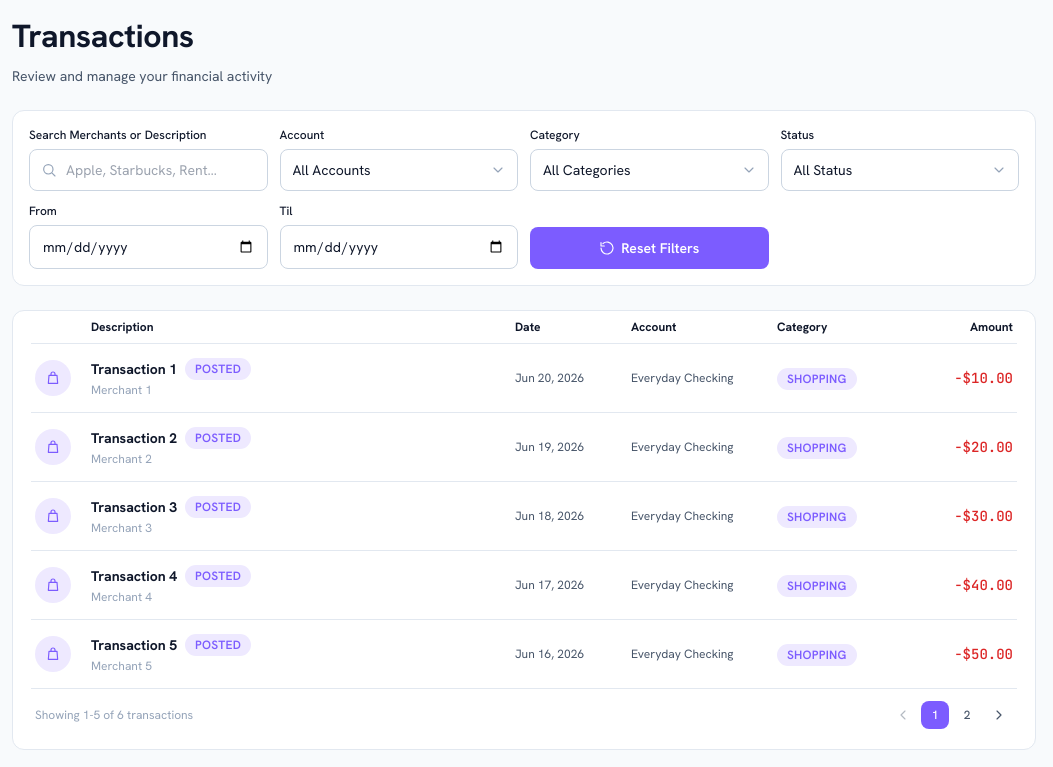
Scenario: TransactionsView › goes to the next page when the pager is clicked
This screenshot has width=1053, height=767.
Click the button "2": (967, 715) [953,701,981,729]
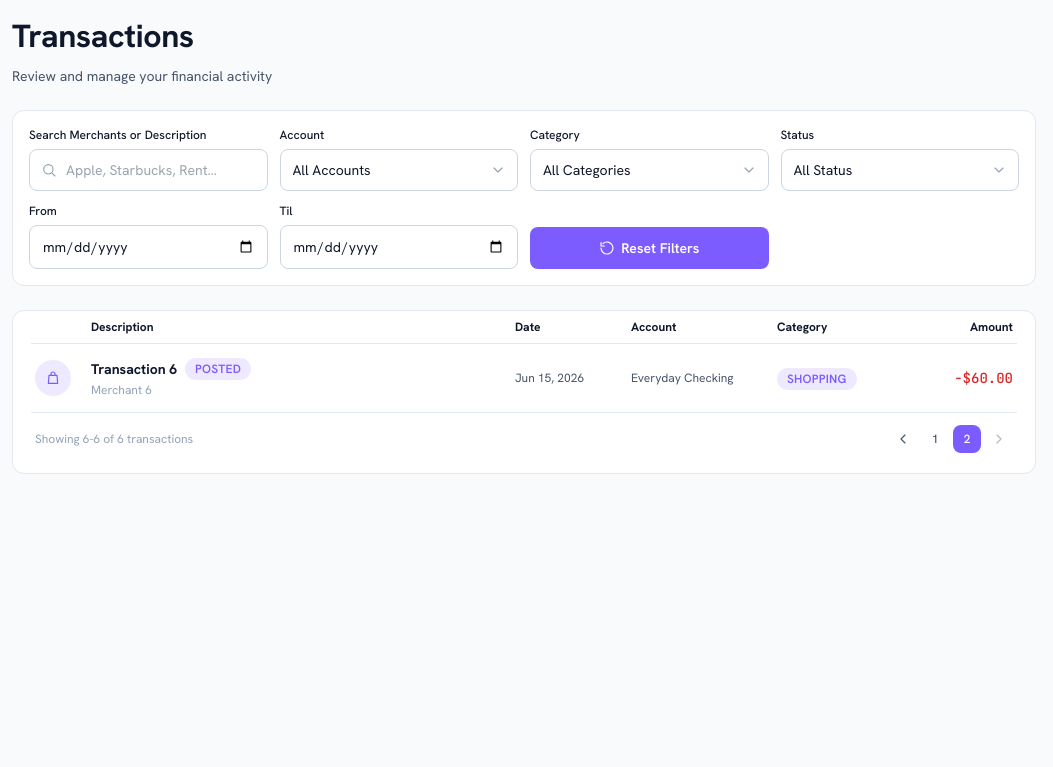
Expected: the text "Transaction 6" is shown, [91,359,177,379]
Expected: the text "Showing 6-6 of 6 transactions" is shown, [35,431,193,447]
